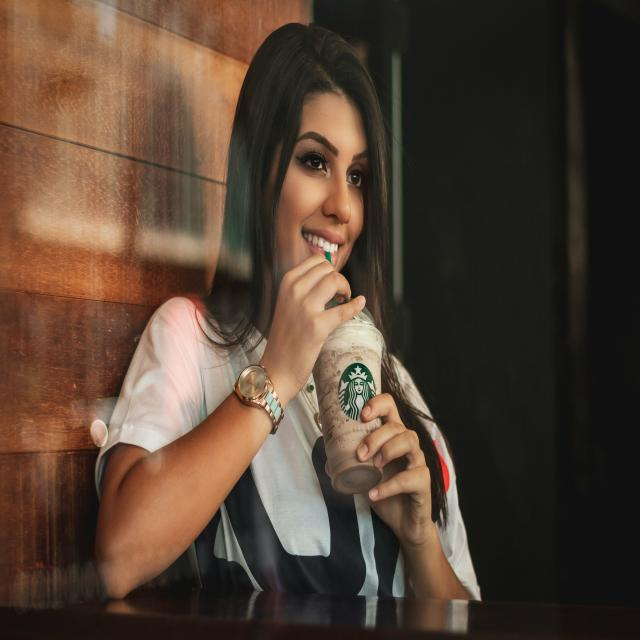starbucks: (336, 362, 379, 423)
